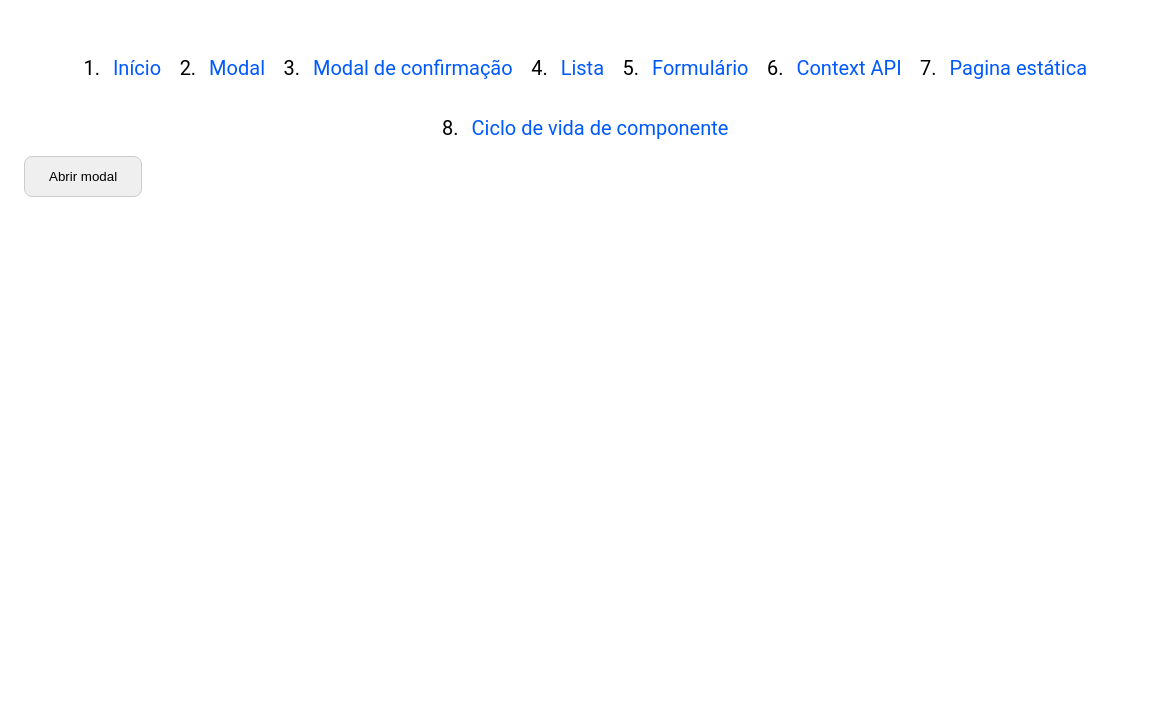
modal › modal should open and close
The width and height of the screenshot is (1152, 720).
Click the button with id "open-modal" at (83, 177), box [24,156,142,197]
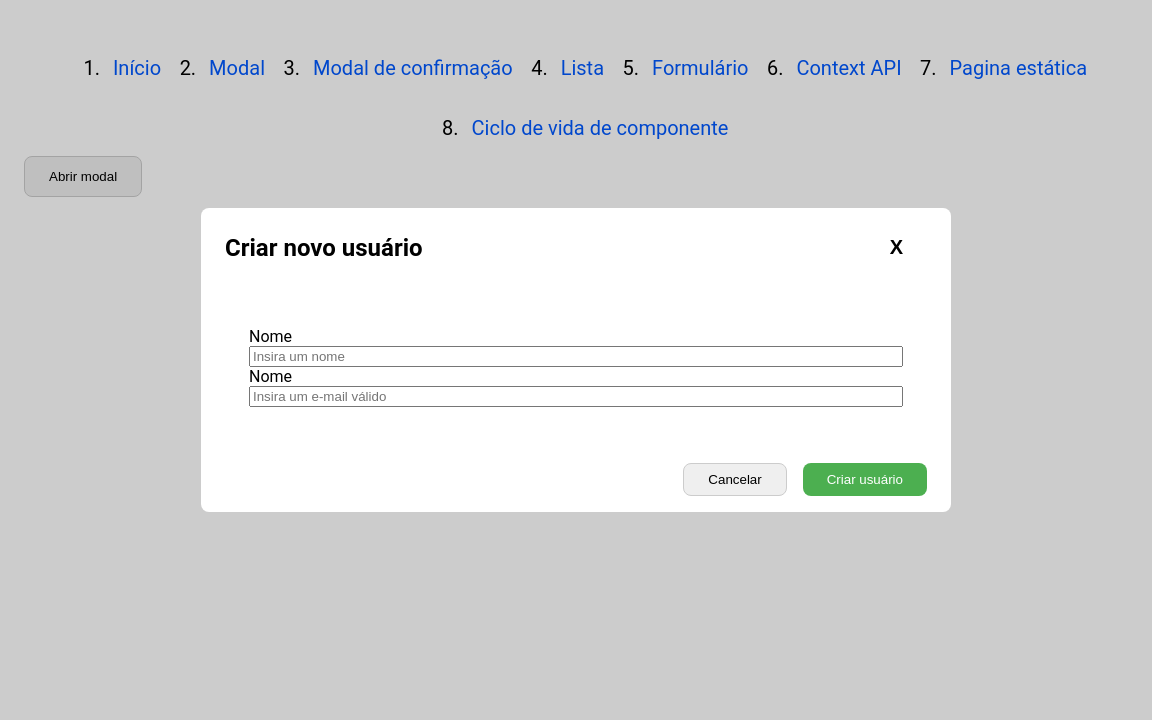
Expected: the dialog is shown, [201,208,951,512]
Click the button "X" at (897, 248), box [866,224,927,271]
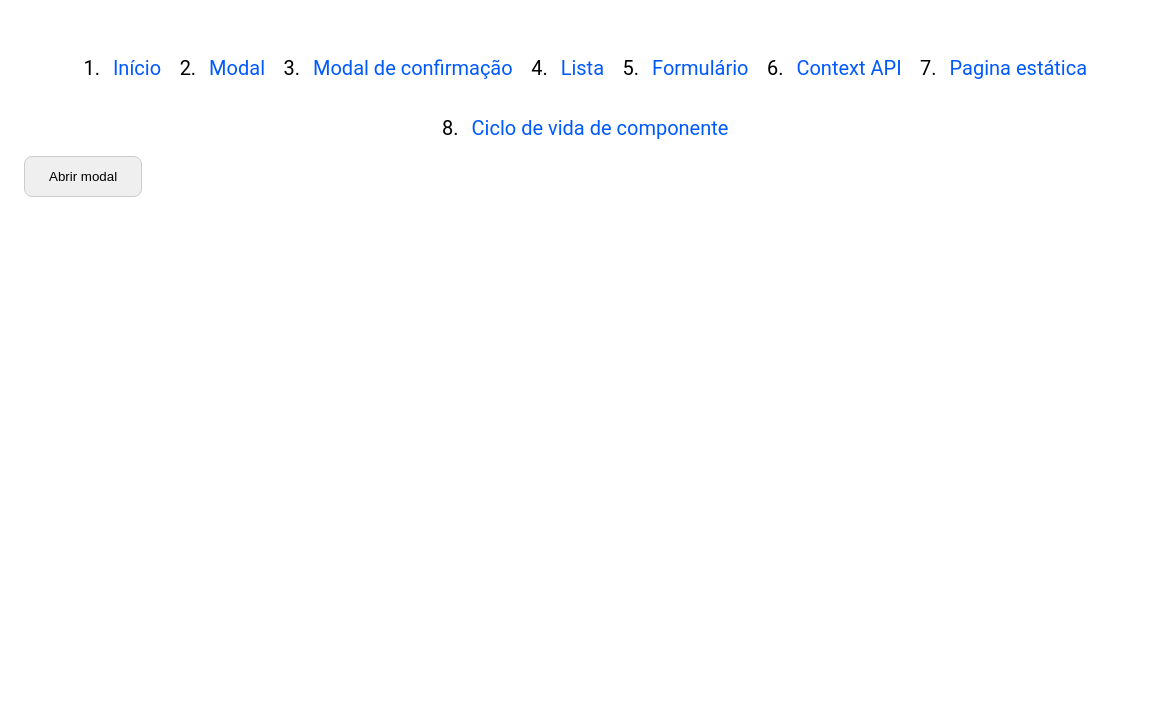
Expected: the dialog is gone
